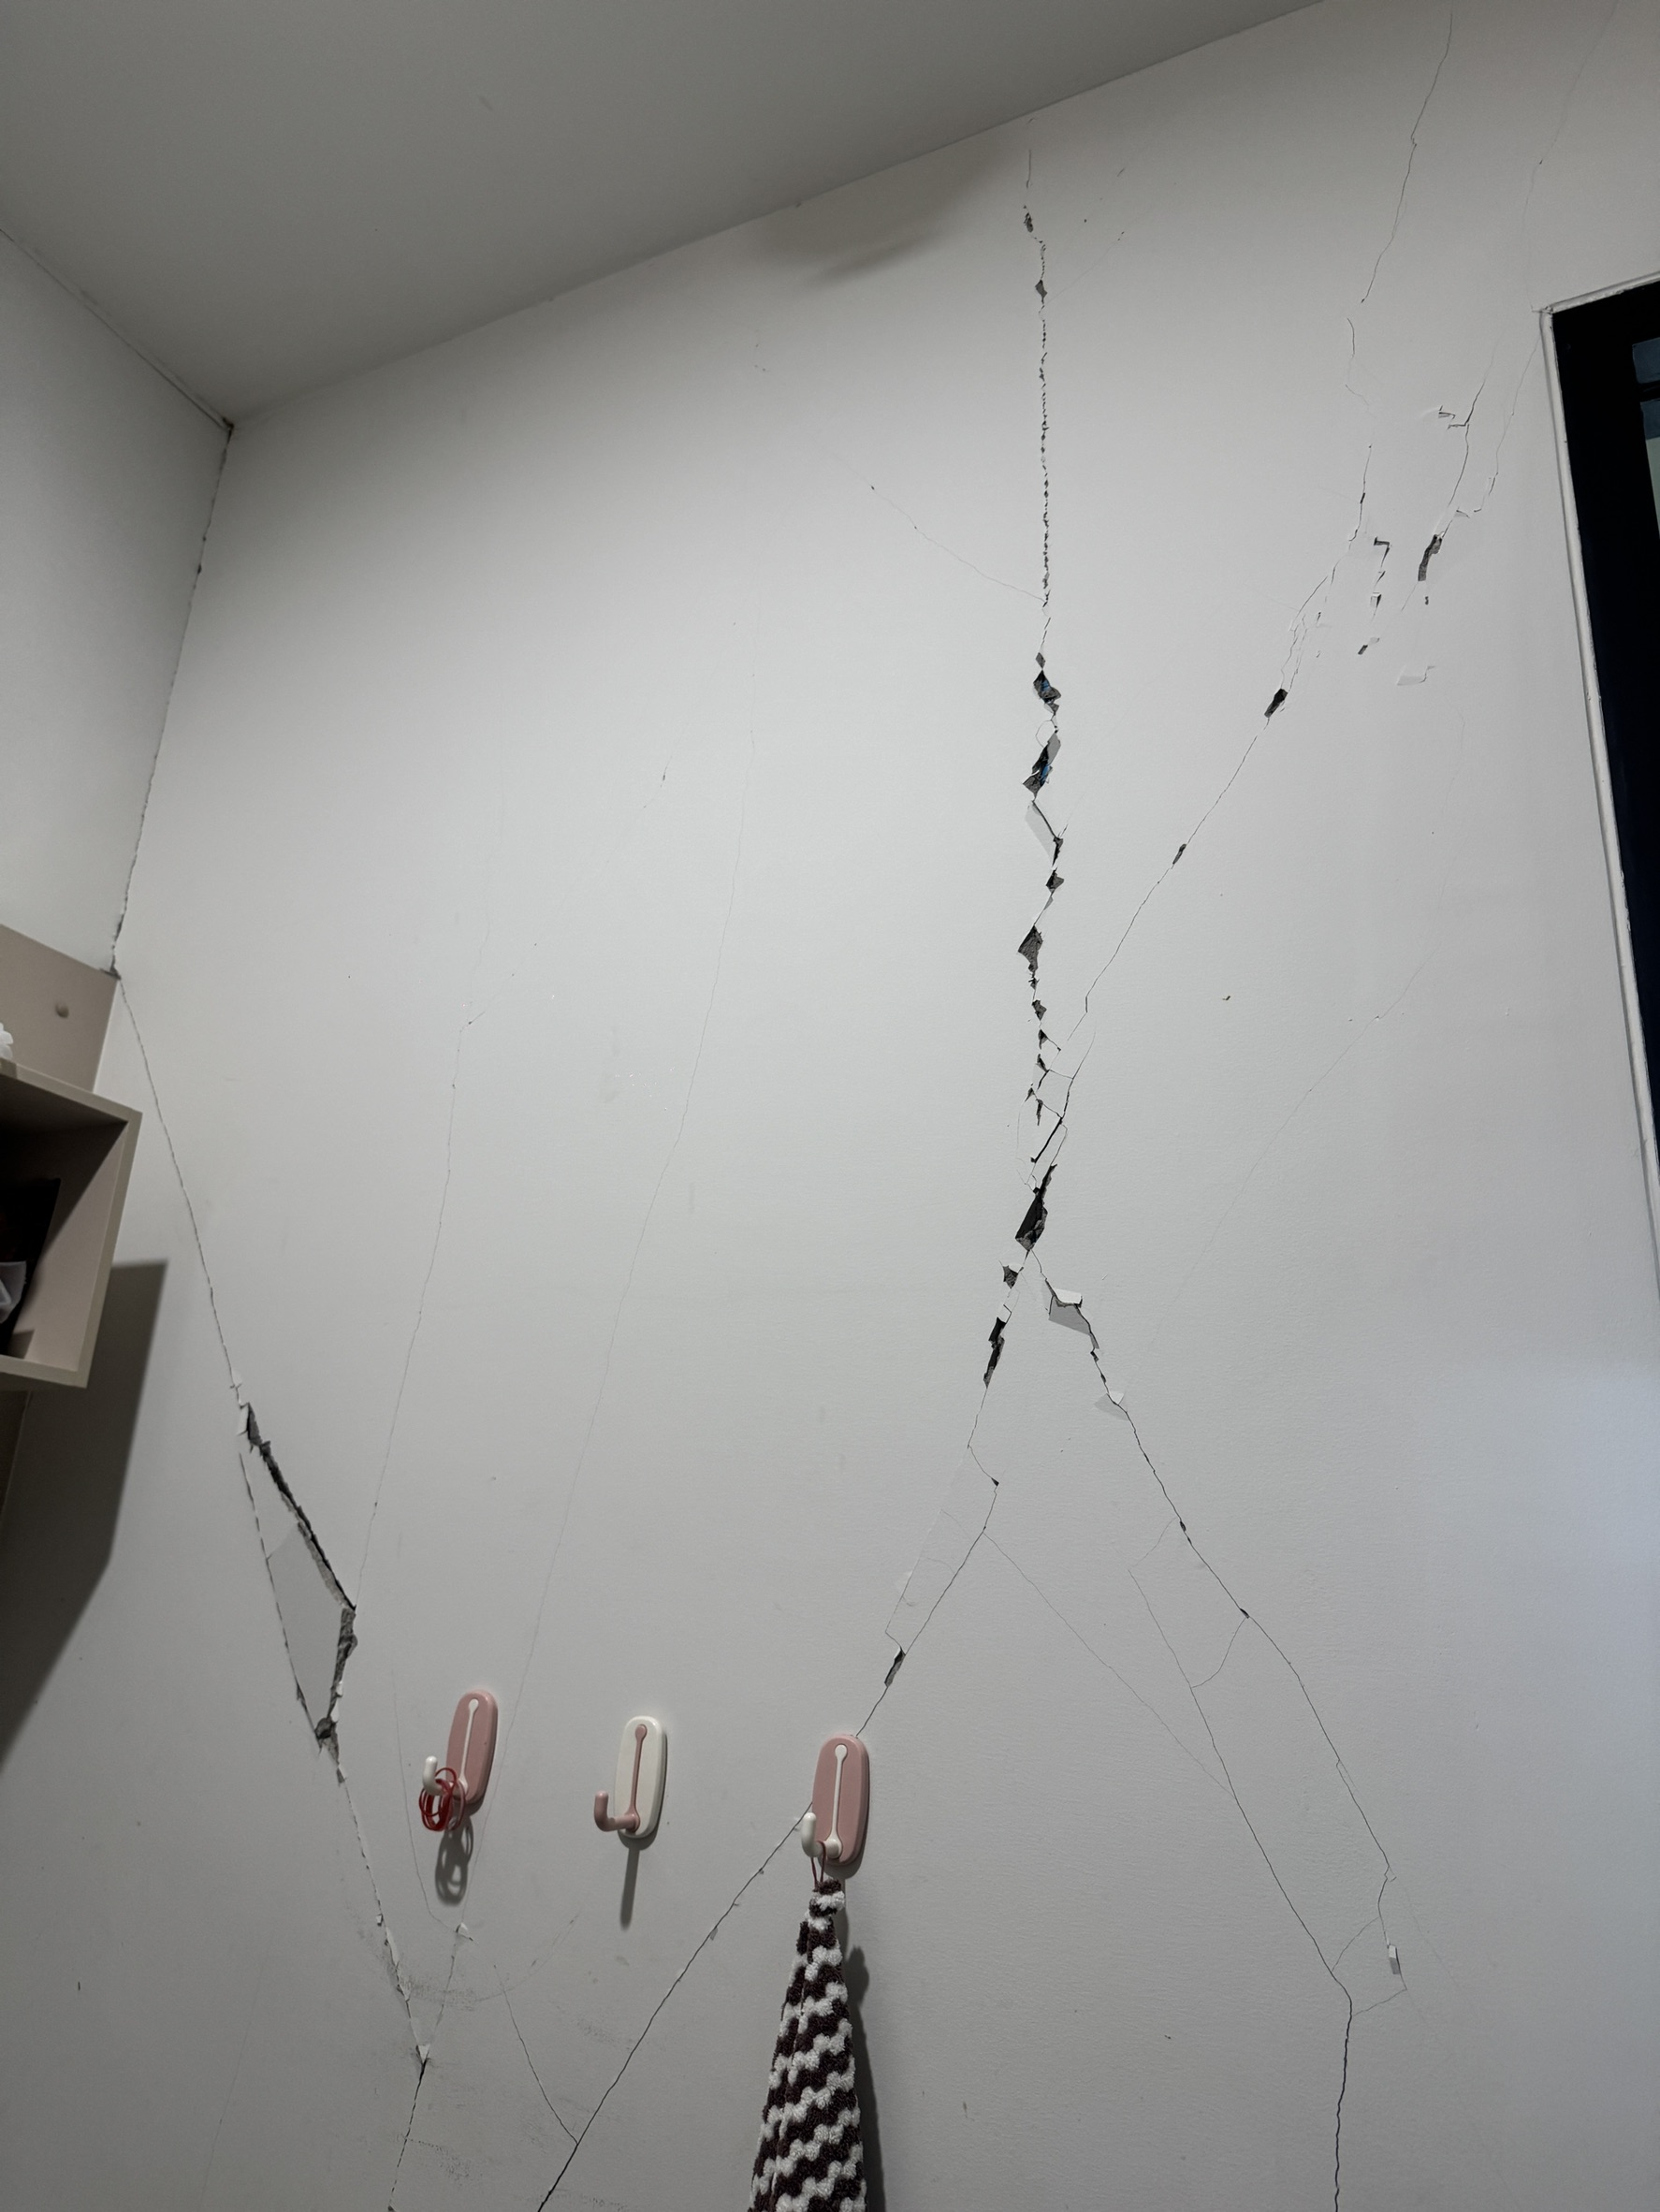Medium: (736, 281, 1538, 1572)
